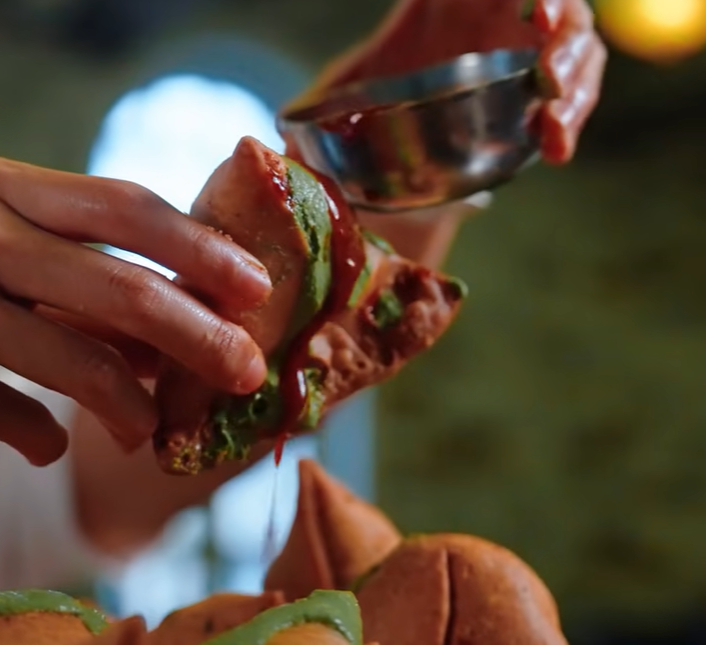samosa: (150, 124, 474, 487)
